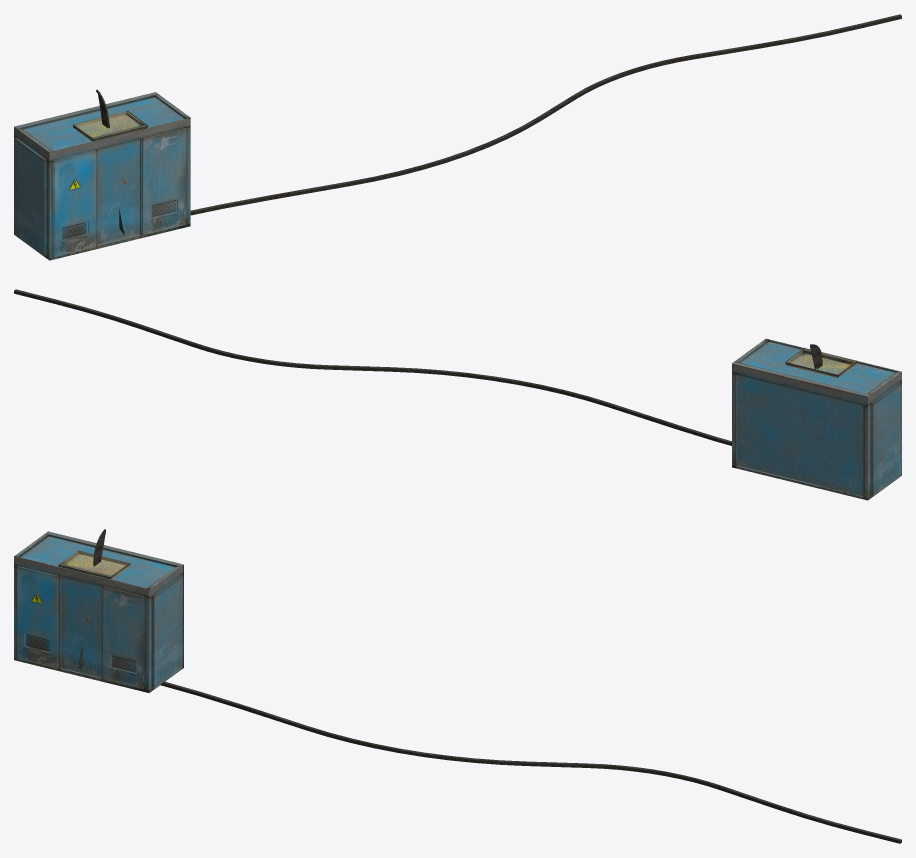
File: electric box.fbx
3 views of the same model, one above another, from view 1: azimuth 30°, elevation 25°; view 2: azimuth 150°, elevation 25°; view 3: azimuth 330°, elevation 25° (orthographic). The views are drawn at different scales.
Visible parts, largest first — view 1: Electric_box, wire_1, eletrik_box; view 2: Electric_box, wire_1, eletrik_box; view 3: Electric_box, wire_1, eletrik_box.
Boxes of the visible parts, x1,y1,x2,y2 form: Electric_box: (14,92,190,260); wire_1: (190,14,901,215); eletrik_box: (73,111,147,184); Electric_box: (732,338,901,500); wire_1: (14,289,731,445); eletrik_box: (785,348,857,377); Electric_box: (14,531,183,692); wire_1: (160,681,901,843); eletrik_box: (58,550,130,646).
Size of the model in its own units: 71.08 by 10.41 by 7.26.
